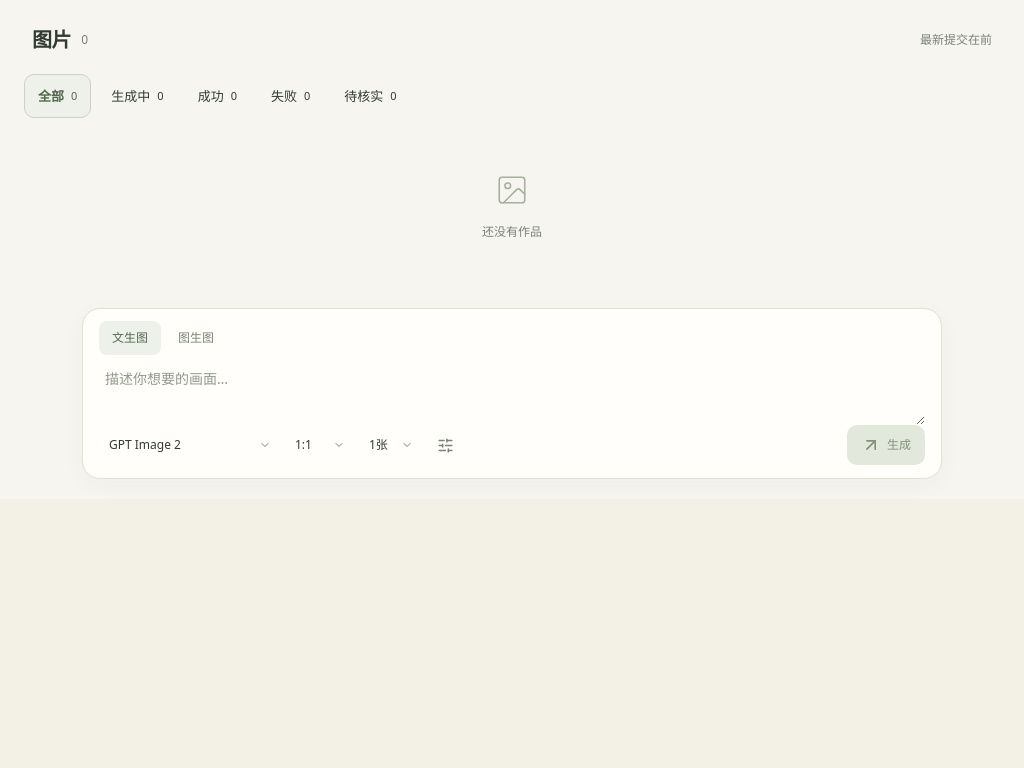
Test: 图片生成与继续改图 › requires an original image before editing
Click the button with aria-label "图生图 / 改图" at point(196, 338), box [165,321,227,355]
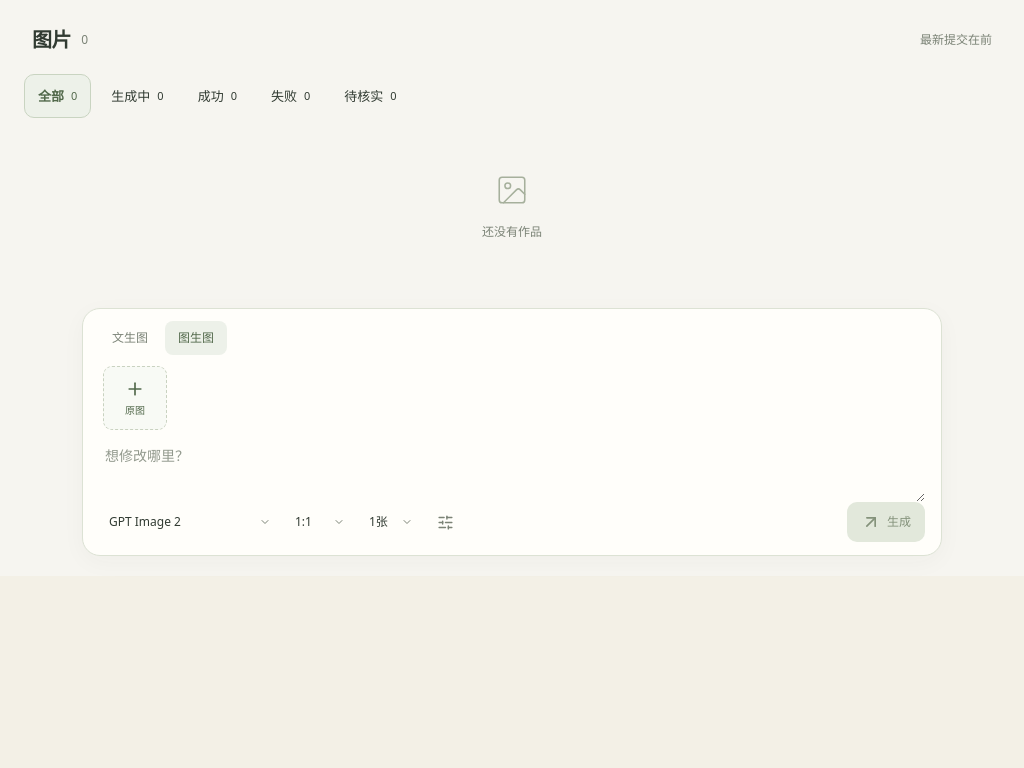
Type "换成海边背景" into the text box named "修改要求" at point(512, 467), box [99,432,925,502]
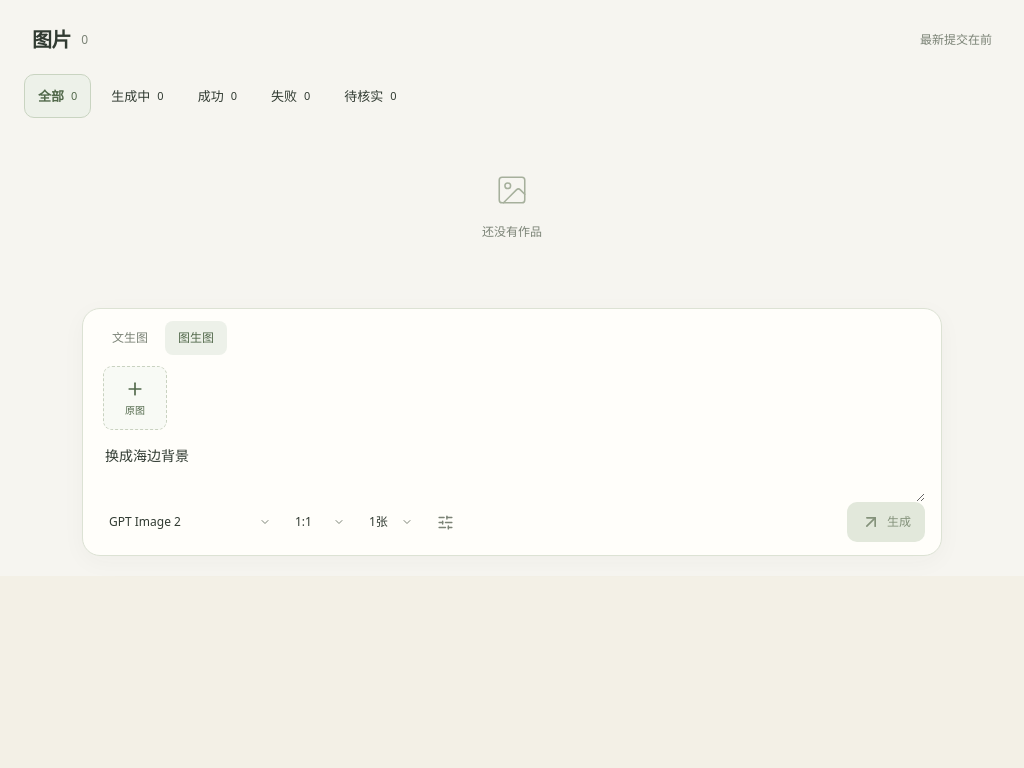
expect the button with aria-label "开始改图" is disabled: met, box [847,502,925,542]
Press Enter in the text box, box [99,432,925,502]
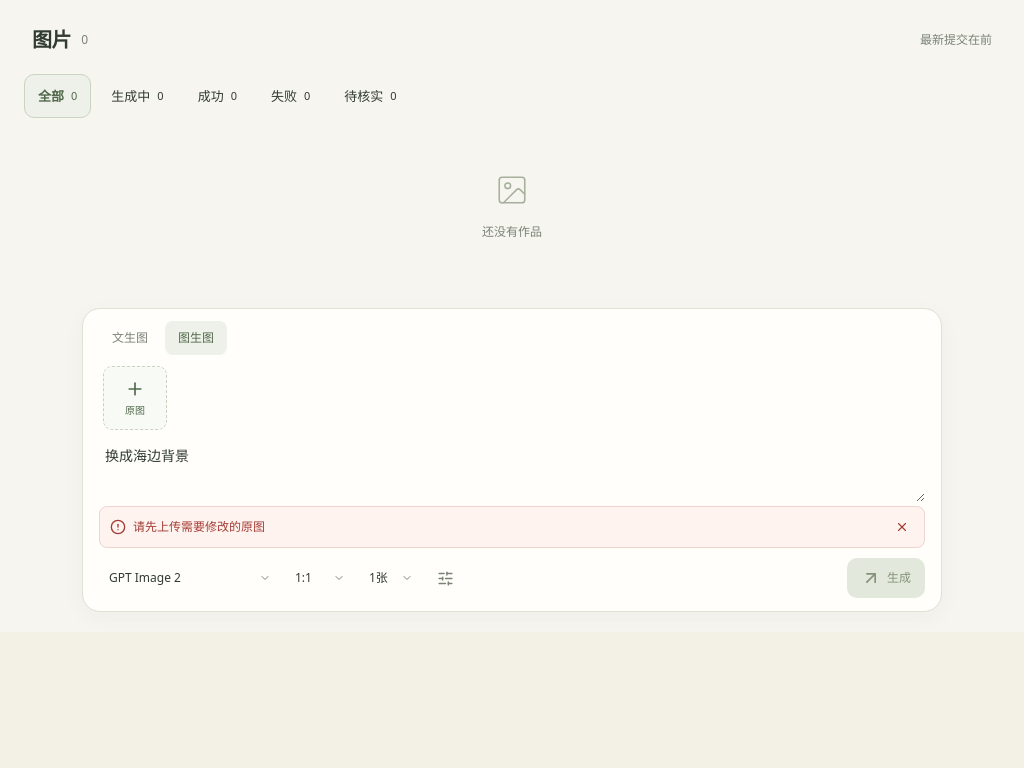
expect the message reads "请先上传需要修改的原图": met, box [133,518,265,535]
